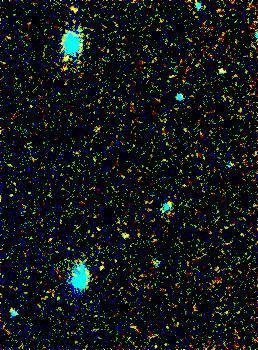star: (61, 0, 91, 25)
